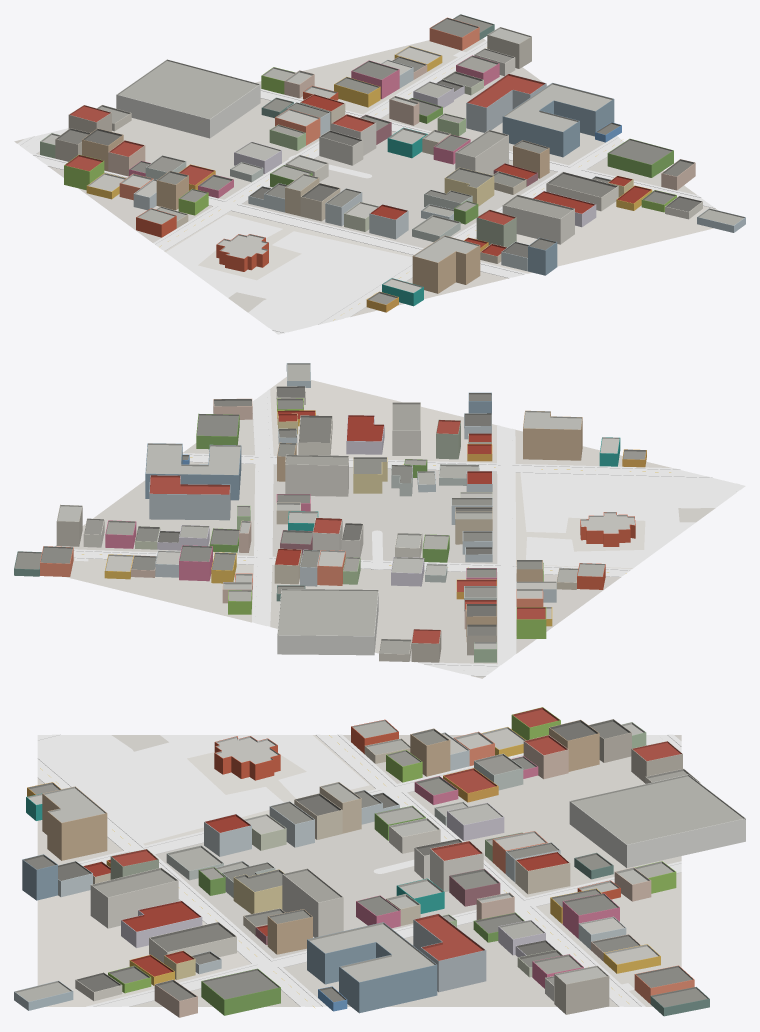
3 views of the same model, one above another, from view 1: azimuth 30°, elevation 25°; view 2: azimuth 150°, elevation 25°; view 3: azimuth 270°, elevation 25° (orthographic). The views are drawn at different scales.
Parts seen in each view (by area): view 1: walls, roofs, ground, grass, asphalt, sidewalk; view 2: roofs, ground, walls, grass, asphalt, sidewalk; view 3: walls, roofs, ground, grass, asphalt, sidewalk.
Boxes of the visible parts, x1,y1,x2,y2 form: walls: (40, 24, 745, 312); roofs: (40, 14, 745, 304); ground: (14, 38, 717, 316); grass: (165, 51, 465, 332); asphalt: (20, 42, 711, 334); sidewalk: (17, 40, 715, 332); roofs: (14, 363, 646, 654); ground: (55, 377, 715, 678); walls: (14, 365, 646, 662); grass: (74, 472, 736, 568); asphalt: (73, 391, 745, 674); sidewalk: (73, 389, 739, 676); walls: (14, 715, 745, 1017); roofs: (14, 707, 745, 1007); ground: (37, 735, 681, 1006); grass: (37, 735, 634, 990); asphalt: (37, 735, 681, 1006); sidewalk: (37, 734, 681, 1006).
Size of what is drawn, in the model's own units: 264 by 16.24 by 284.
